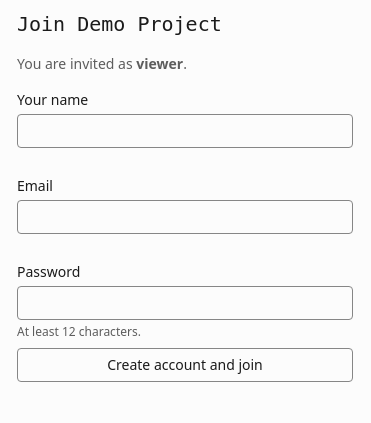
InviteAcceptPage › shows an error and does not navigate when the post-accept session reload fails
In the field labelled "Your name": [185, 131] box [17,114,353,148], type "New Person"
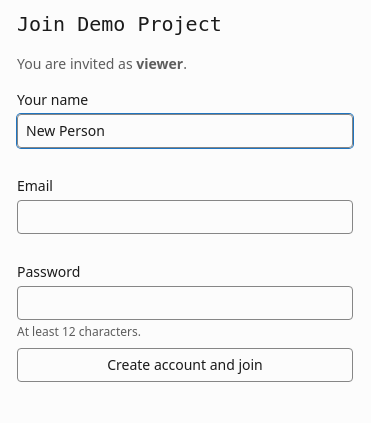
In the field labelled "Email": [185, 217] box [17,200,353,234], type "new@example.test"
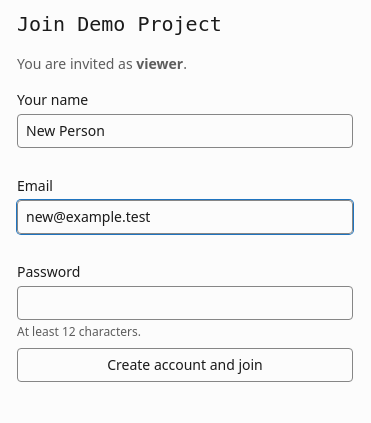
In the password field labelled "Password At least 12 characters.": [185, 303] box [17,286,353,320], type "correct horse battery"
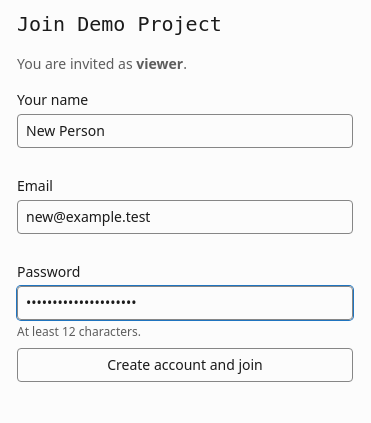
Click the button "Create account and join": [185, 365] box [17,348,353,382]
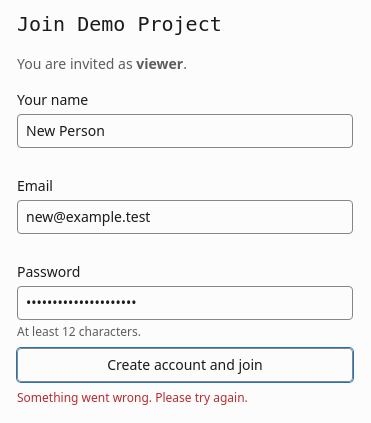
Expected: the message shows "Something went wrong", [17,389,248,406]
